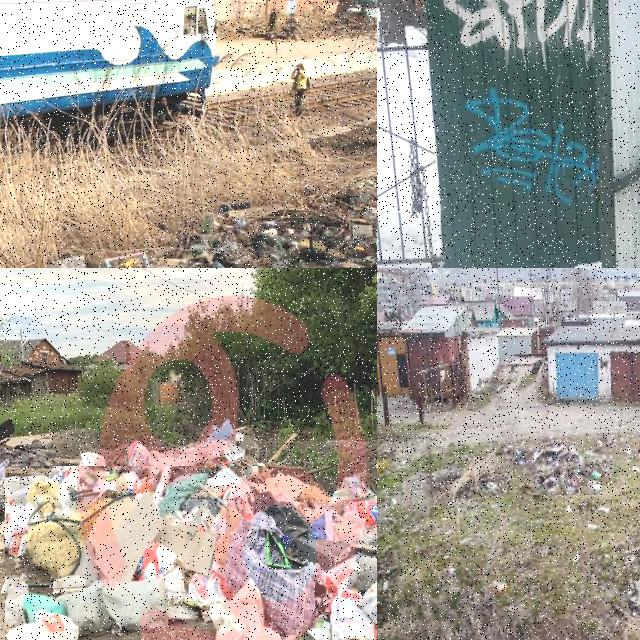lixeira: (5, 467, 376, 639), (215, 177, 376, 267), (47, 230, 215, 267), (514, 444, 604, 496)
